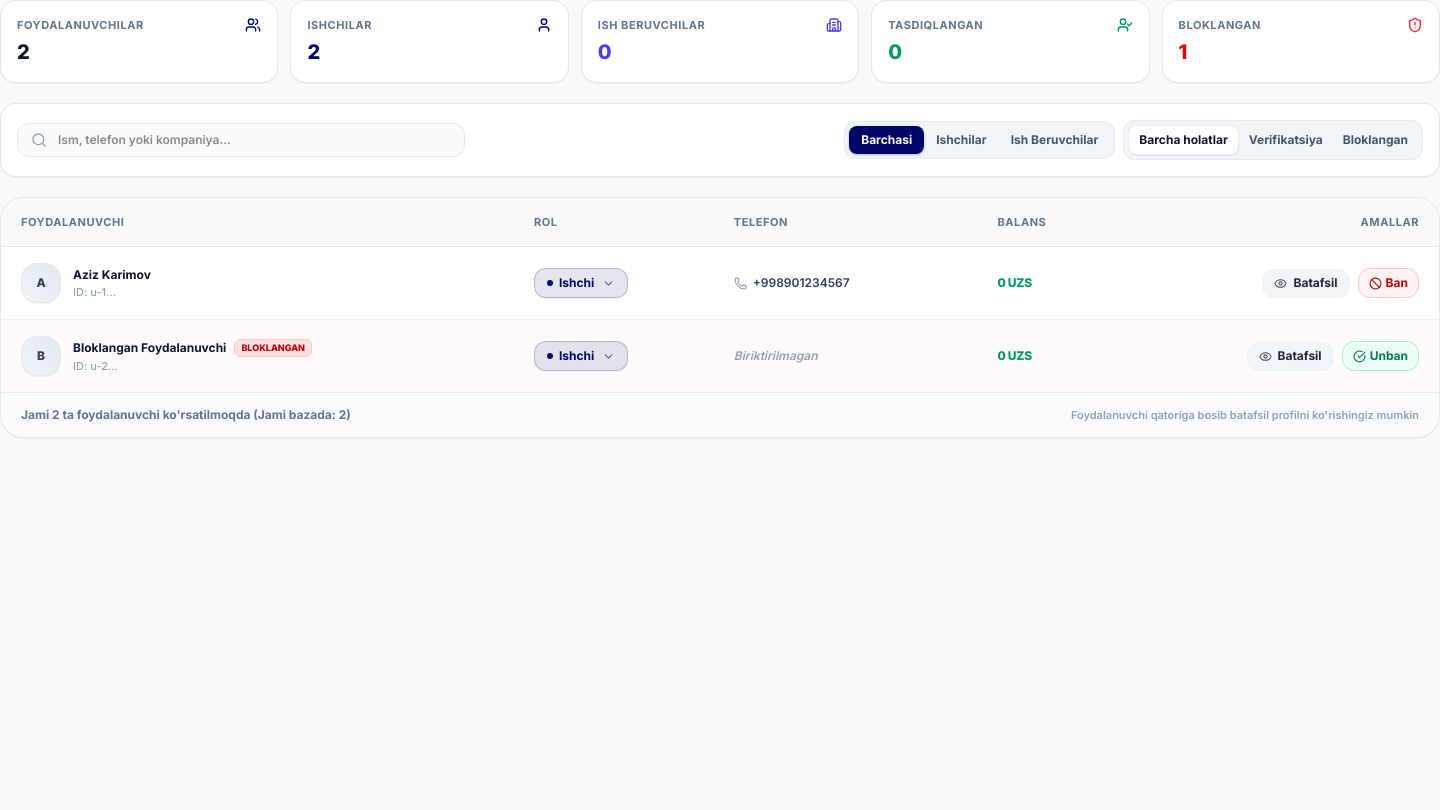
Test: AdminUsers — banning asks before it cuts a user off › cancelling leaves the account alone
Click the button "Ban": (1388, 283) [1358, 268, 1419, 298]
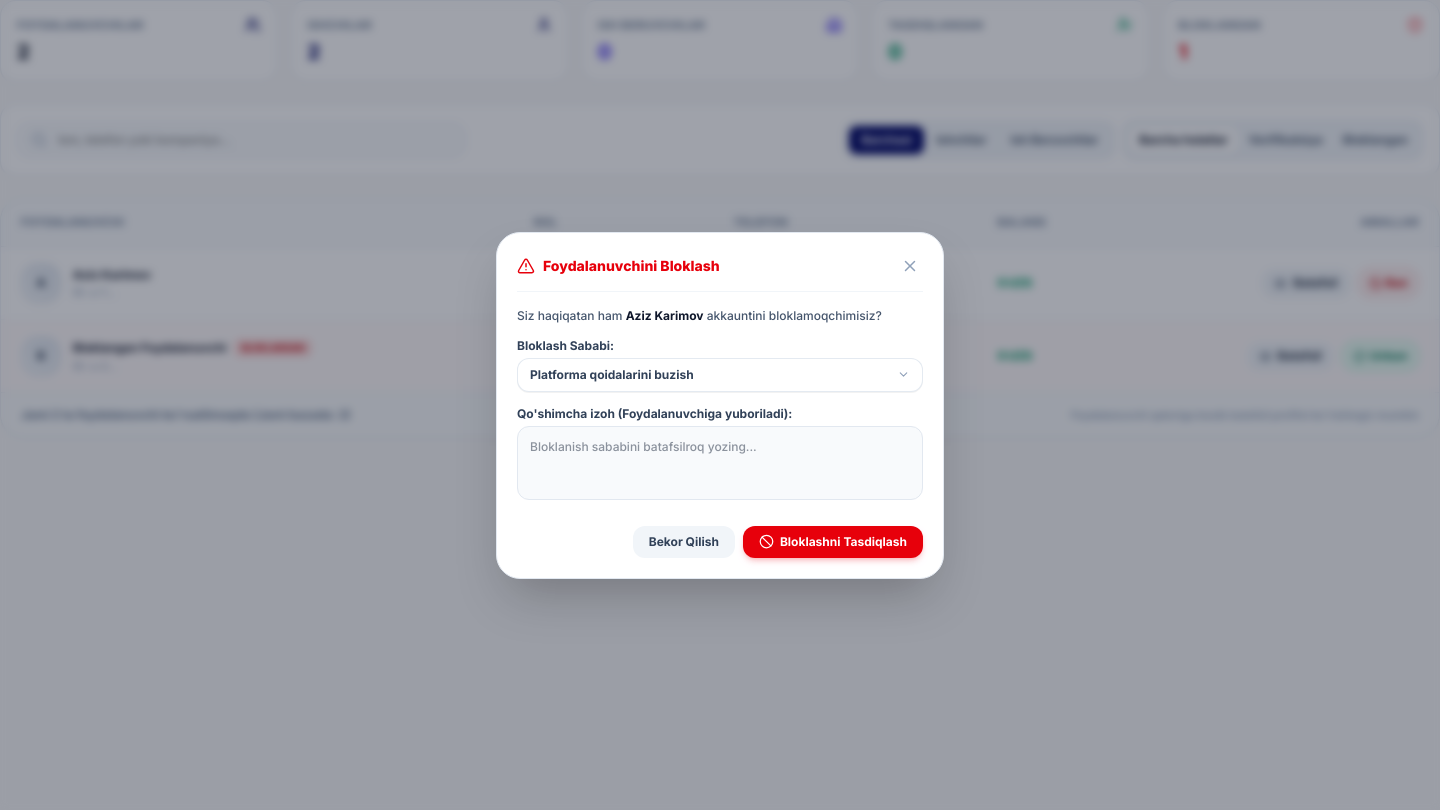
Click the button "Bekor Qilish": (684, 542) [633, 526, 735, 558]
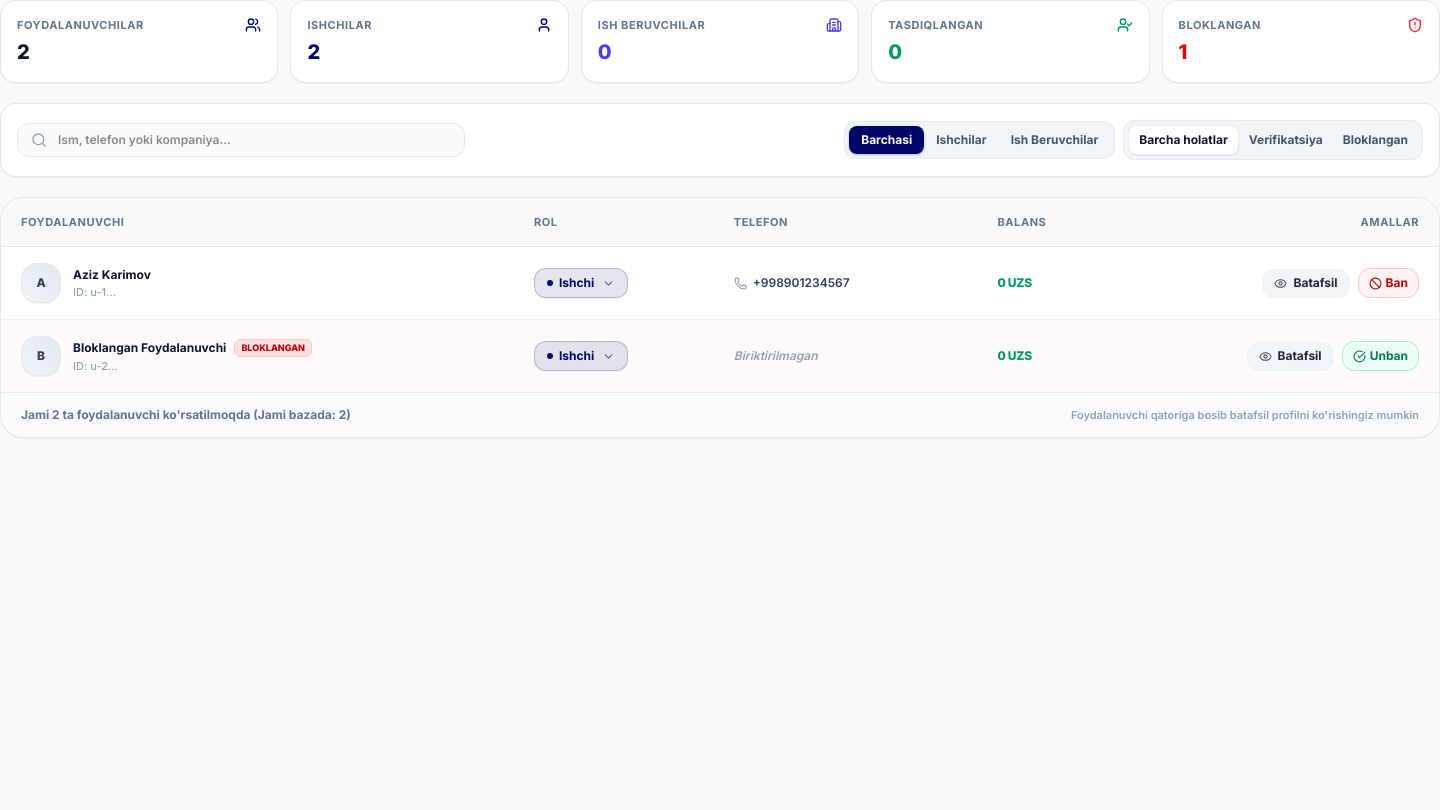
Result: the text "Foydalanuvchini Bloklash" is gone
